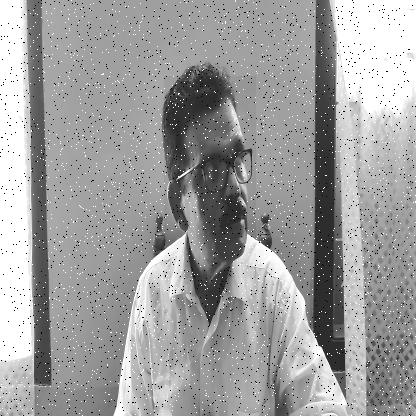Distracted: (165, 76, 257, 278)
